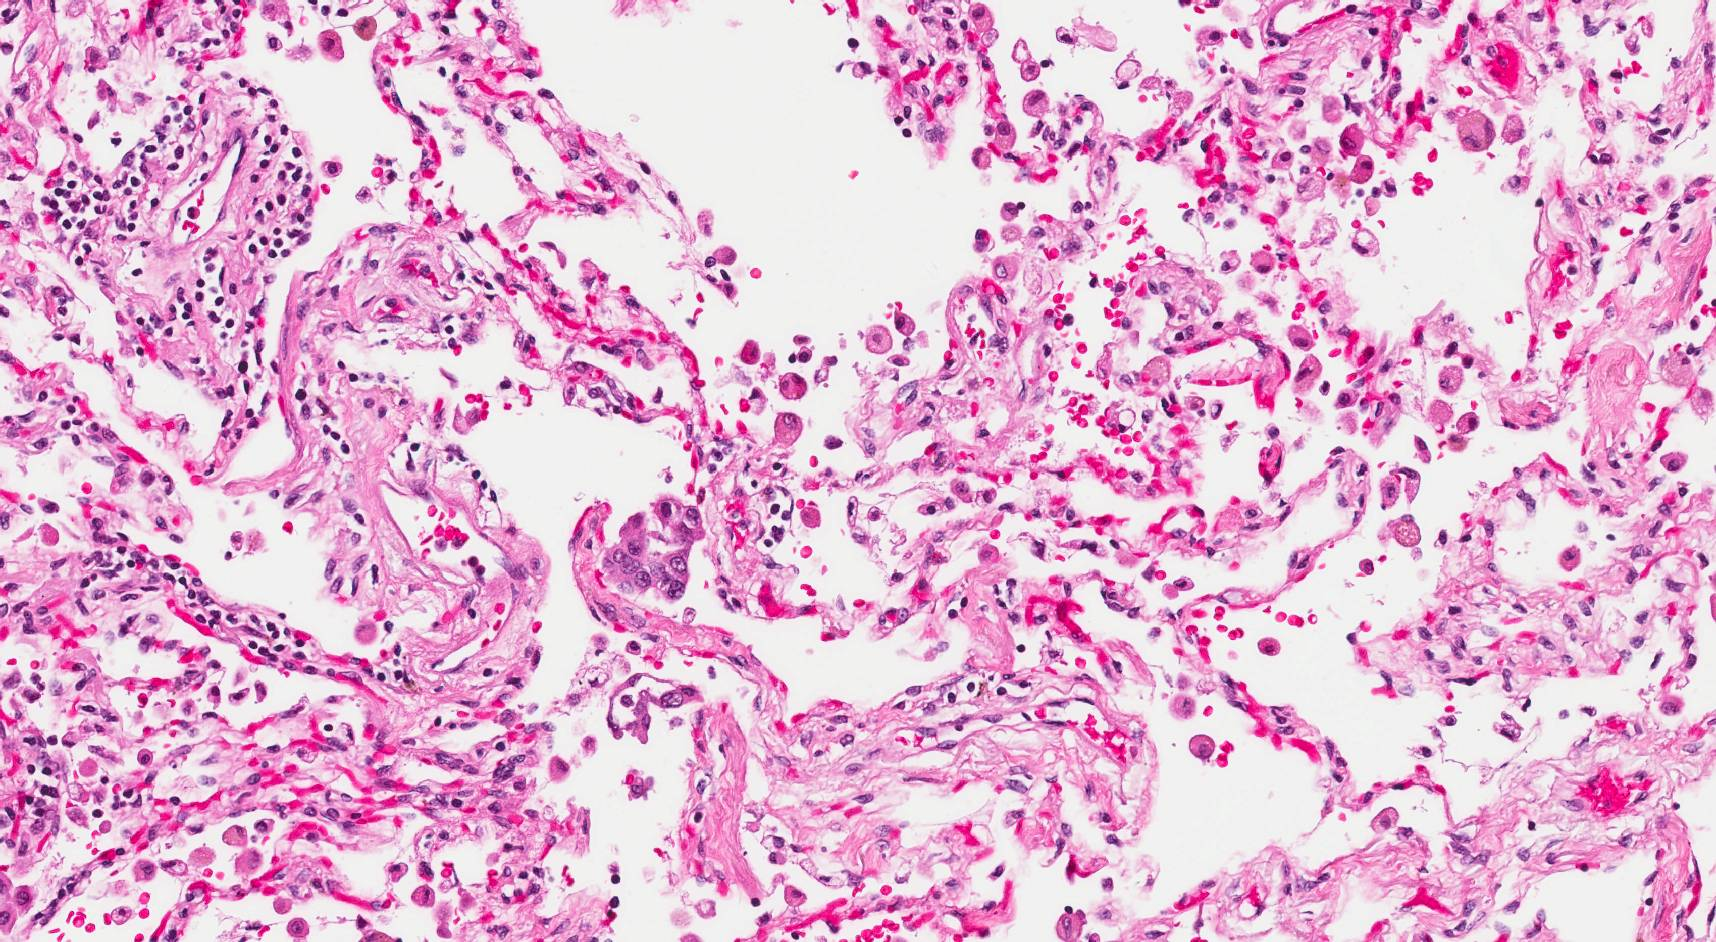stas: (600, 496, 707, 606), (603, 671, 700, 744)
